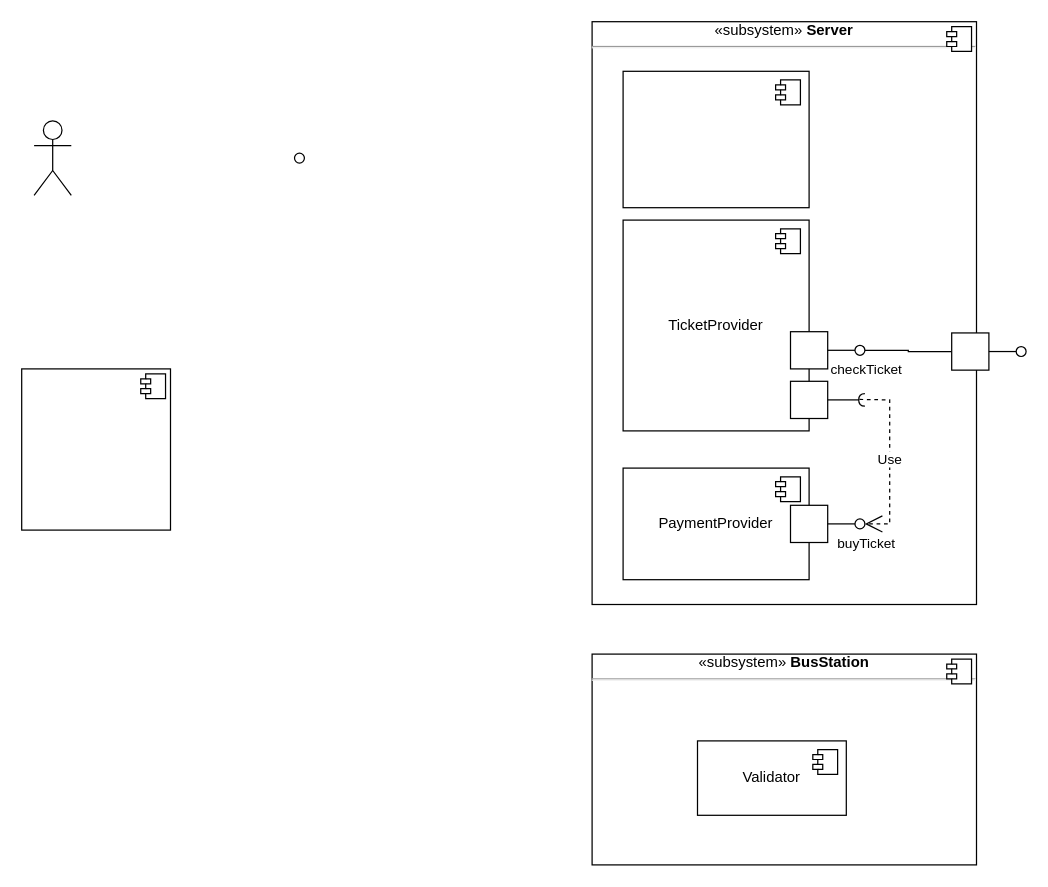
Some shapes in this 1048 by 887 pixel diagram are drawn without their labels. The shapes that lost their labels are listed below. From the top down, each one's centre as x and y in pixels, then its label:
the point at 52,157: Actor
the point at 715,139: CustomerProvider
the point at 95,449: «subsystem» MobileApp
